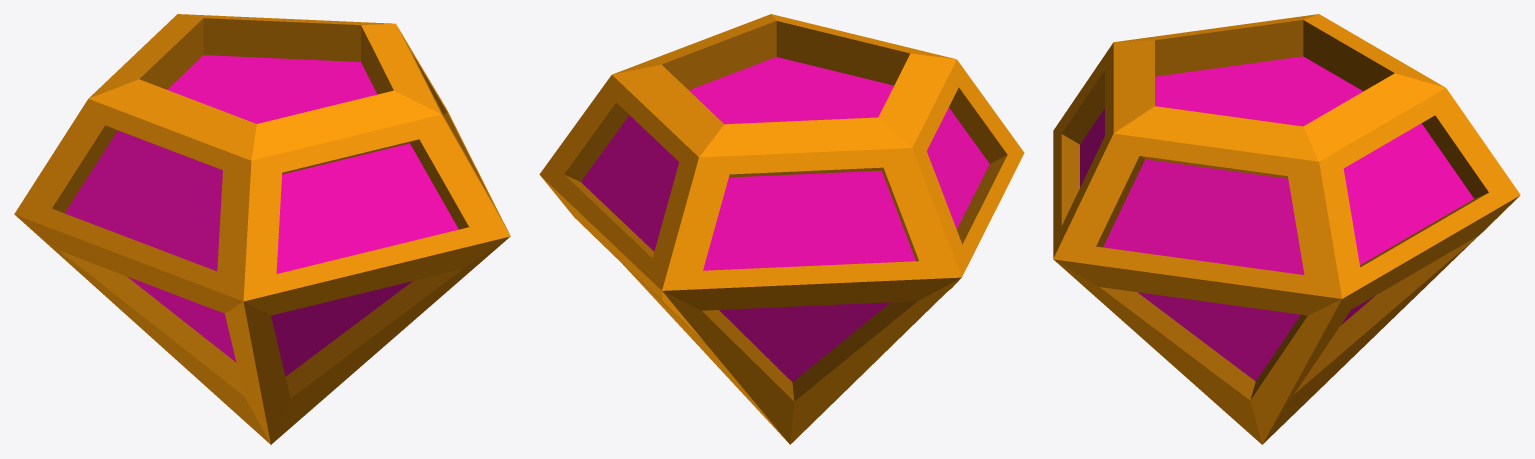
File: Gem_08.glb
3 renders of one model, left to right at view 1: azimuth 30°, elevation 25°; view 2: azimuth 150°, elevation 25°; view 3: azimuth 270°, elevation 25°, orthographic. The views are drawn at different scales.
Visible parts, largest first — view 1: Gem_08; view 2: Gem_08; view 3: Gem_08.
Part boxes in pixels (x1=…): Gem_08: x1=14, y1=14, x2=510, y2=444; Gem_08: x1=539, y1=14, x2=1024, y2=444; Gem_08: x1=1053, y1=14, x2=1520, y2=444.
Size of what is drawn, in the model's own units: 0.3366 by 0.2808 by 0.3201.
1 material, 1 textured.
